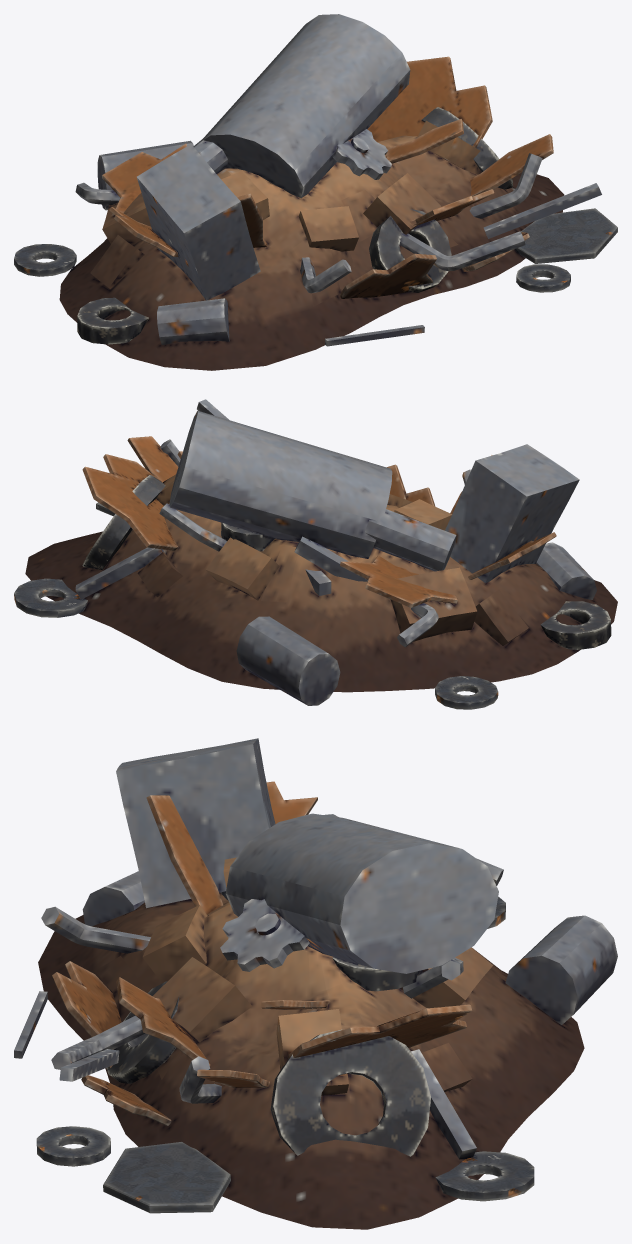
3 renders of one model, top to bottom at view 1: azimuth 30°, elevation 25°; view 2: azimuth 150°, elevation 25°; view 3: azimuth 270°, elevation 25°, orthographic. The views are drawn at different scales.
Visible parts, largest first — view 1: Bits, Heap, Plates, Spill, Tyre; view 2: Heap, Bits, Plates, Tyre, Spill; view 3: Heap, Bits, Plates, Tyre, Spill.
Boxes of the visible parts, x1,y1,x2,y2 form: Bits: (75,14,601,346); Heap: (59,120,564,370); Plates: (102,56,553,298); Spill: (14,208,617,292); Tyre: (77,107,512,344); Heap: (25,474,617,692); Bits: (75,399,596,705); Plates: (82,436,556,607); Tyre: (82,475,611,649); Spill: (14,502,498,709); Heap: (38,857,584,1229); Bits: (14,738,617,1159); Plates: (52,781,472,1125); Tyre: (106,957,430,1156); Spill: (36,897,534,1213).
Size of the model in its own units: 14.86 by 5.46 by 11.01.
Materials: 5 (5 with a texture image).
